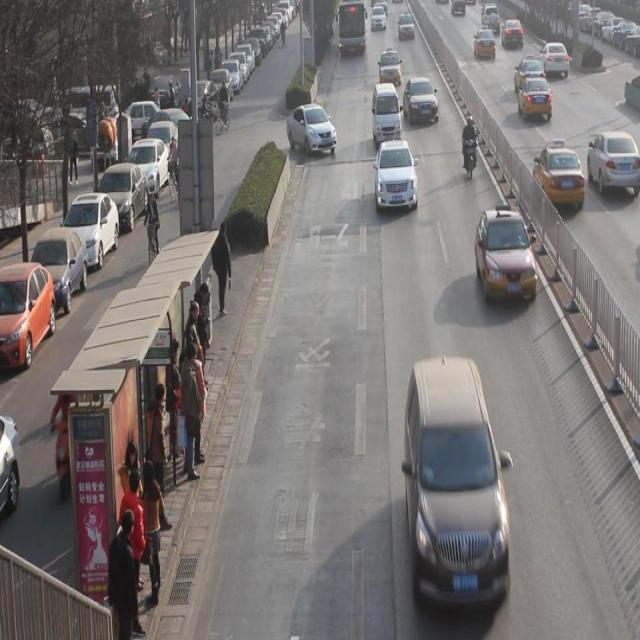car: (405, 355, 510, 610), (474, 208, 536, 308), (532, 139, 584, 211), (587, 130, 640, 198), (375, 142, 417, 212), (287, 103, 337, 159), (517, 70, 552, 122), (402, 77, 439, 124), (514, 54, 544, 92), (540, 40, 570, 77), (378, 50, 402, 85), (482, 1, 501, 37), (502, 18, 524, 47), (474, 29, 496, 58), (398, 12, 414, 39)
truck: (372, 84, 401, 142)
